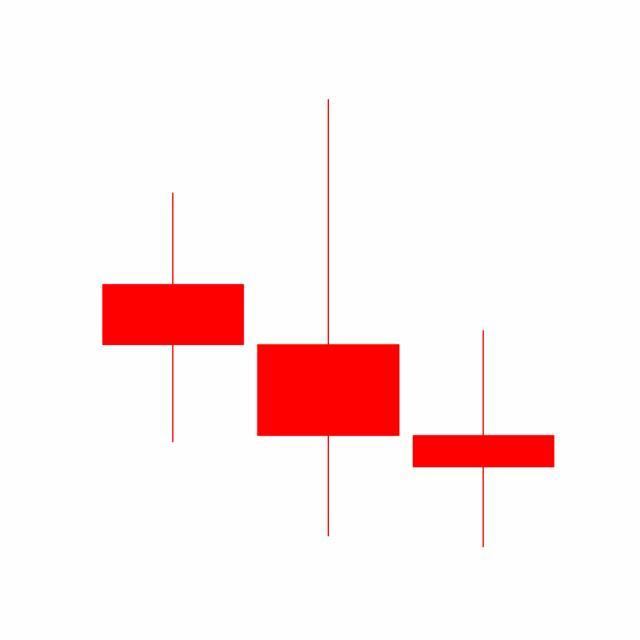Spinning Top: (406, 328, 562, 551)
